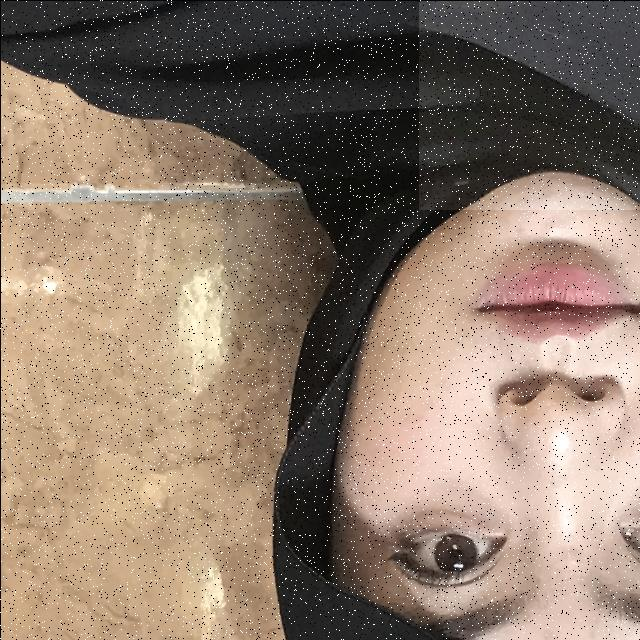kamu: (418, 0, 640, 209)
